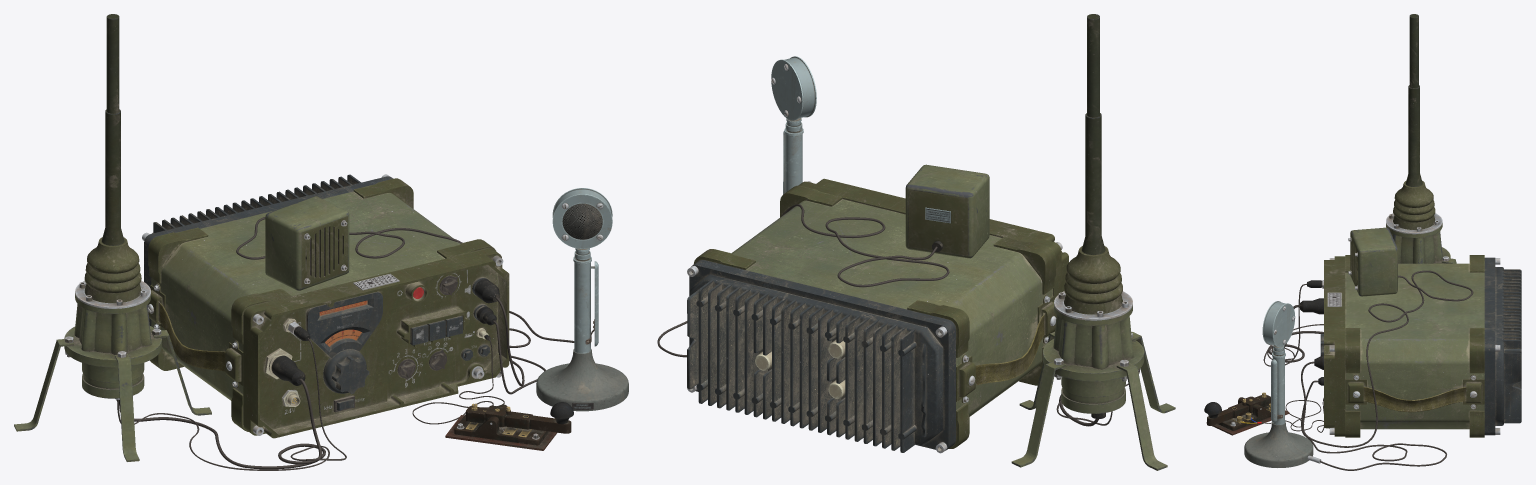
Rendered from vintage_radio_transceiver.gltf.
3 views of the same model, side by side, from view 1: azimuth 30°, elevation 25°; view 2: azimuth 150°, elevation 25°; view 3: azimuth 270°, elevation 25° (orthographic). The views are drawn at different scales.
Visible parts, largest first — view 1: vintage_radio_transceiver, vintage_radio_transceiver_antenna, vintage_radio_transceiver_microphone, vintage_radio_transceiver_speaker, vintage_radio_transceiver_cables, vintage_radio_transceiver_morse_key_base, vintage_radio_transceiver_morse_key_arm, vintage_radio_transceiver_dial, vintage_radio_transceiver_antenna_plug_a; view 2: vintage_radio_transceiver, vintage_radio_transceiver_antenna, vintage_radio_transceiver_speaker, vintage_radio_transceiver_microphone, vintage_radio_transceiver_cables; view 3: vintage_radio_transceiver, vintage_radio_transceiver_antenna, vintage_radio_transceiver_microphone, vintage_radio_transceiver_cables, vintage_radio_transceiver_speaker, vintage_radio_transceiver_morse_key_arm, vintage_radio_transceiver_morse_key_base.
Boxes of the visible parts, left/top/right/bottom form: vintage_radio_transceiver: left=142, top=174, right=509, bottom=438; vintage_radio_transceiver_antenna: left=14, top=14, right=211, bottom=461; vintage_radio_transceiver_microphone: left=536, top=188, right=628, bottom=411; vintage_radio_transceiver_speaker: left=265, top=196, right=349, bottom=290; vintage_radio_transceiver_cables: left=117, top=217, right=574, bottom=470; vintage_radio_transceiver_morse_key_base: left=445, top=404, right=557, bottom=450; vintage_radio_transceiver_morse_key_arm: left=466, top=402, right=573, bottom=433; vintage_radio_transceiver_dial: left=323, top=329, right=369, bottom=393; vintage_radio_transceiver_antenna_plug_a: left=271, top=355, right=305, bottom=385; vintage_radio_transceiver: left=687, top=178, right=1068, bottom=453; vintage_radio_transceiver_antenna: left=1011, top=14, right=1175, bottom=470; vintage_radio_transceiver_speaker: left=905, top=164, right=989, bottom=258; vintage_radio_transceiver_microphone: left=771, top=56, right=816, bottom=194; vintage_radio_transceiver_cables: left=657, top=204, right=1139, bottom=426; vintage_radio_transceiver: left=1324, top=255, right=1521, bottom=437; vintage_radio_transceiver_antenna: left=1386, top=14, right=1456, bottom=263; vintage_radio_transceiver_microphone: left=1244, top=301, right=1321, bottom=467; vintage_radio_transceiver_cables: left=1261, top=270, right=1473, bottom=470; vintage_radio_transceiver_speaker: left=1348, top=227, right=1397, bottom=296; vintage_radio_transceiver_morse_key_arm: left=1204, top=392, right=1270, bottom=425; vintage_radio_transceiver_morse_key_base: left=1206, top=397, right=1289, bottom=435.
Bounding box in the file's own units: 0.574 × 0.4344 × 0.4131.
2 materials, 2 textured.
